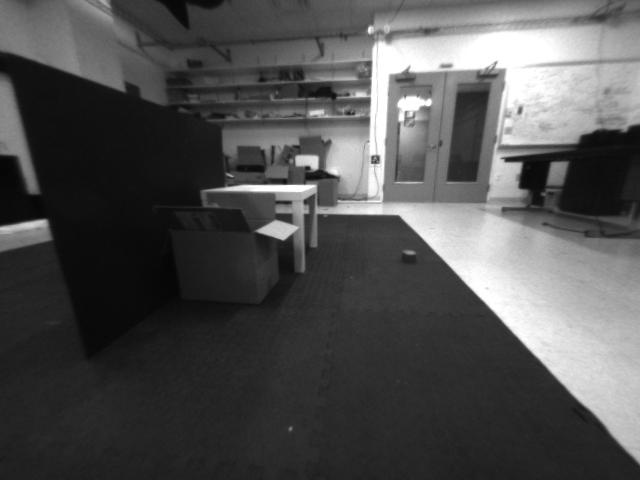dogtoy: (395, 238, 424, 279)
